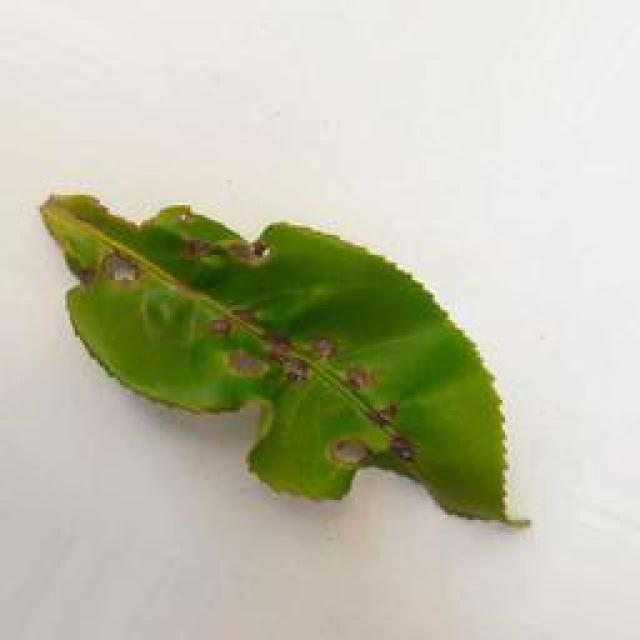Helopeltis: (37, 178, 532, 536)
